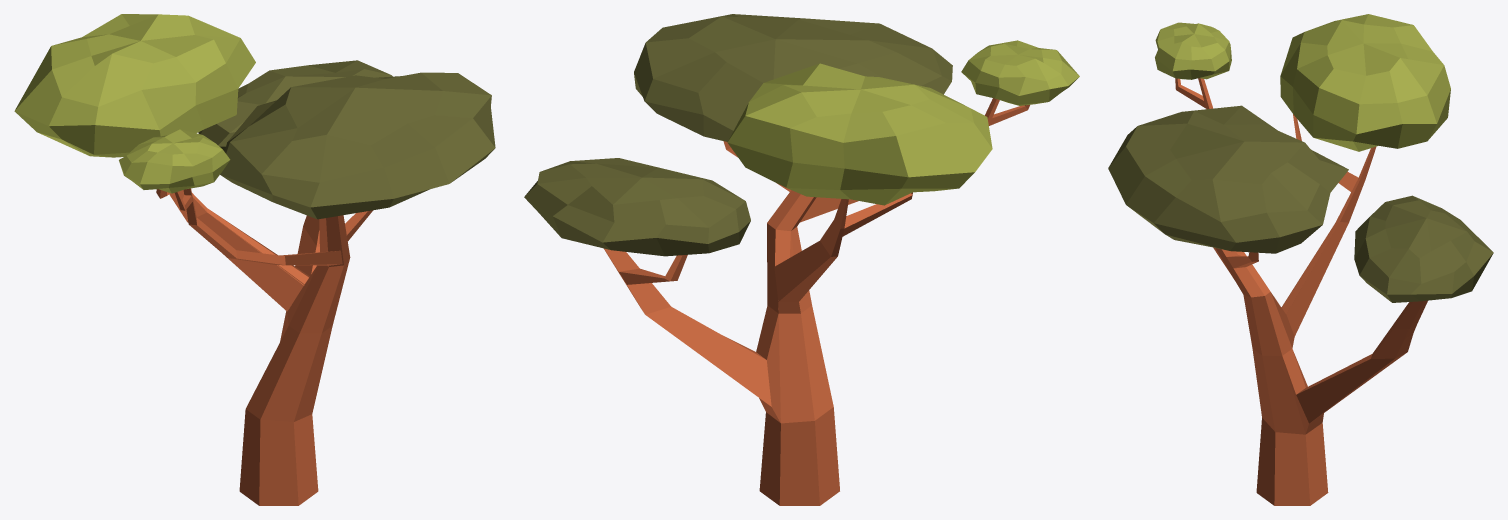
File: Baum2.fbx
3 views of the same model, side by side, from view 1: azimuth 30°, elevation 25°; view 2: azimuth 150°, elevation 25°; view 3: azimuth 270°, elevation 25° (orthographic). The views are drawn at different scales.
Parts seen in each view (by area): view 1: Baum3; view 2: Baum3; view 3: Baum3.
Part boxes in pixels (<box>): Baum3: <box>14,14,495,505</box>; Baum3: <box>524,14,1079,505</box>; Baum3: <box>1108,14,1493,505</box>.
Size of the model in its own units: 4.62 by 4.91 by 4.18.
